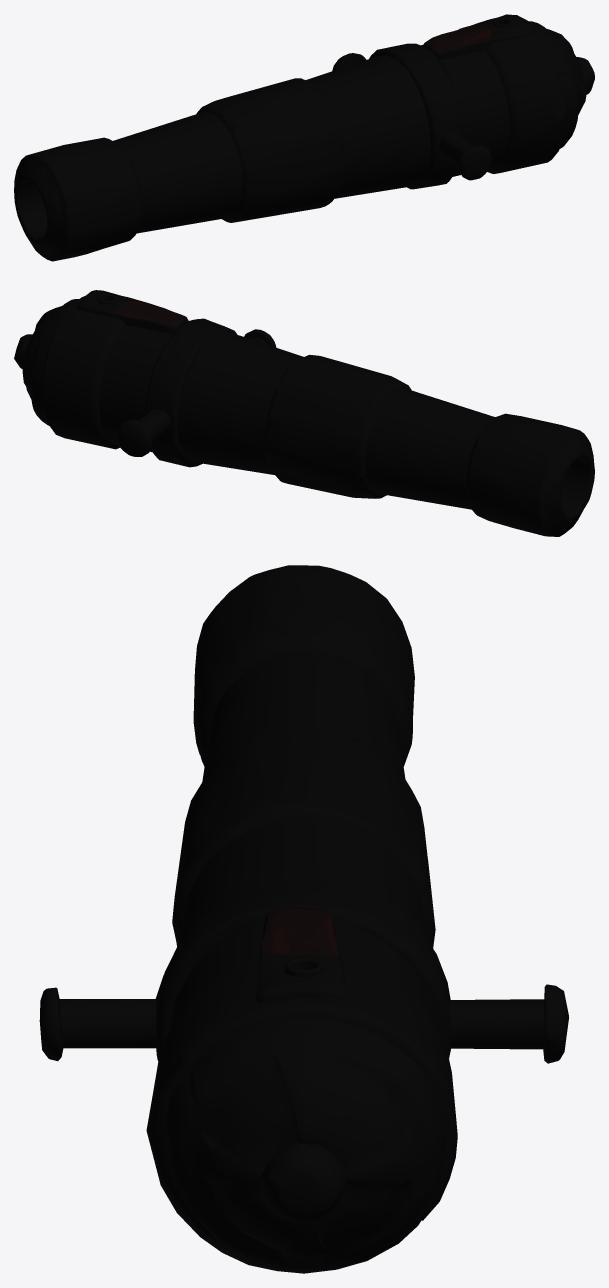
The model's file is cannon.glb.
The picture shows the model from 3 angles, top to bottom: view 1: azimuth 30°, elevation 25°; view 2: azimuth 150°, elevation 25°; view 3: azimuth 270°, elevation 25°; orthographic projection. The views are drawn at different scales.
Visible parts, largest first — view 1: shp_cannon_01_a.001; view 2: shp_cannon_01_a.001; view 3: shp_cannon_01_a.001.
Boxes of the visible parts, x1,y1,x2,y2 form: shp_cannon_01_a.001: [14, 14, 594, 261]; shp_cannon_01_a.001: [14, 290, 594, 536]; shp_cannon_01_a.001: [39, 565, 568, 1273].
Bounding box in the file's own units: 245 × 59.53 × 101.
Materials: 1 (1 with a texture image).
